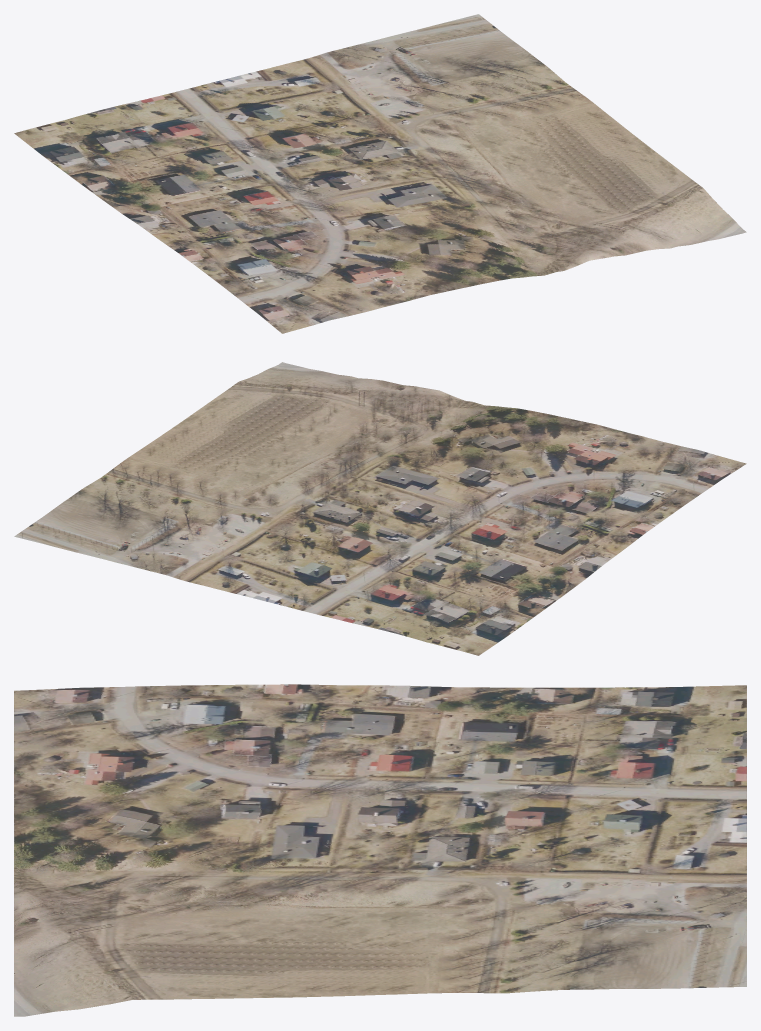
File: CM_Terrain_24492302_6817951.fbx
3 renders of one model, top to bottom at view 1: azimuth 30°, elevation 25°; view 2: azimuth 150°, elevation 25°; view 3: azimuth 270°, elevation 25°, orthographic. The views are drawn at different scales.
Visible parts, largest first — view 1: CM_Terrain_24492302_6817951_LOD0; view 2: CM_Terrain_24492302_6817951_LOD0; view 3: CM_Terrain_24492302_6817951_LOD0.
Part boxes in pixels (left/top/right/bottom): CM_Terrain_24492302_6817951_LOD0: left=14, top=14, right=746, bottom=333; CM_Terrain_24492302_6817951_LOD0: left=14, top=362, right=746, bottom=655; CM_Terrain_24492302_6817951_LOD0: left=14, top=684, right=746, bottom=1016.
Size of what is drawn, in the model's own units: 205 by 9.33 by 205.
